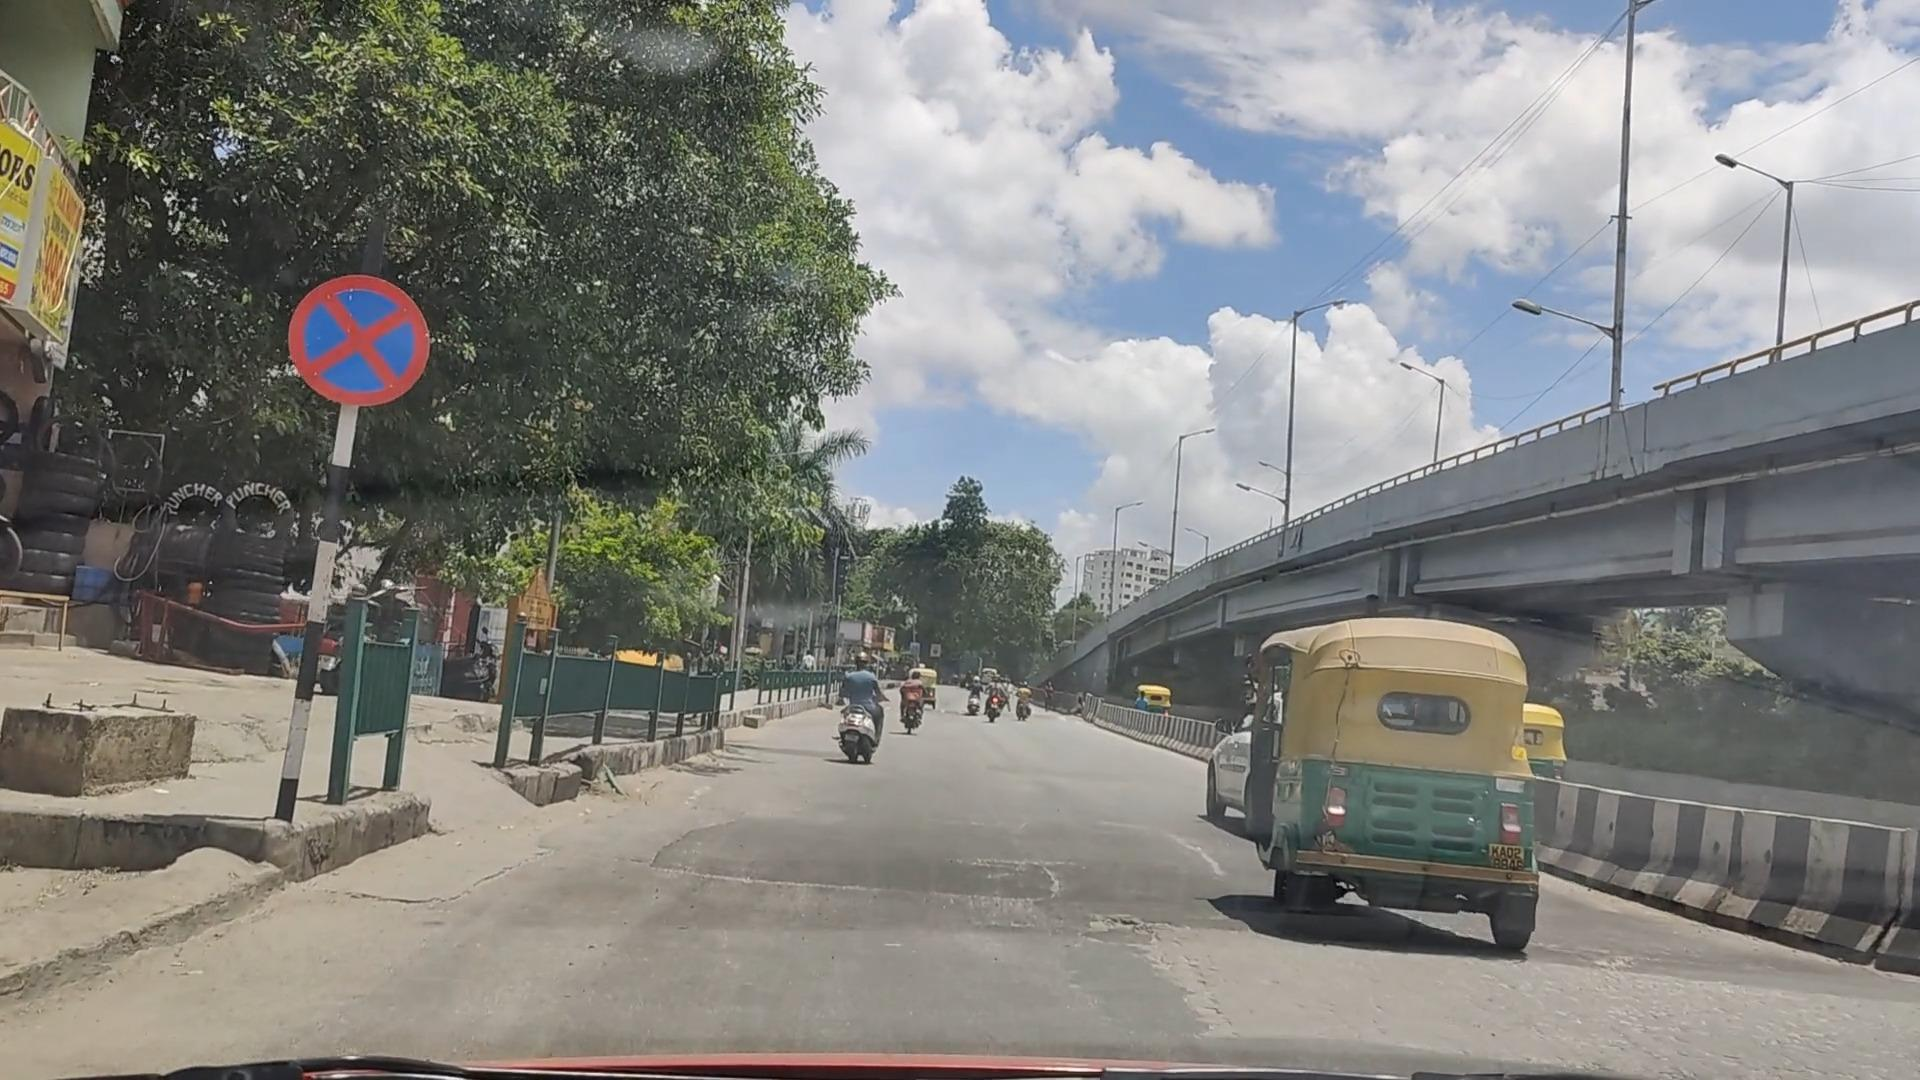LMV: (1259, 621, 1536, 961)
RoadDamages: (967, 874, 1237, 938), (1125, 810, 1204, 858)
